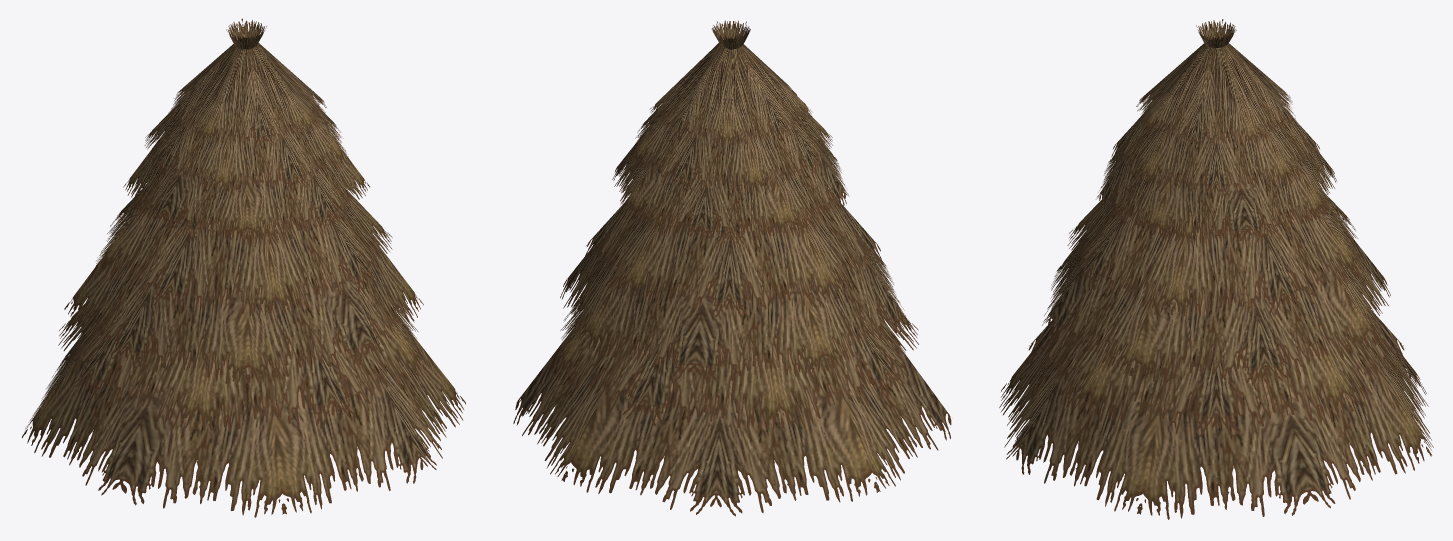
Rendered from ZZL_Item_11.FBX.
The picture shows the model from 3 angles, left to right: view 1: azimuth 30°, elevation 25°; view 2: azimuth 150°, elevation 25°; view 3: azimuth 270°, elevation 25°; orthographic projection.
Parts seen in each view (by area): view 1: ZZL_Item_11; view 2: ZZL_Item_11; view 3: ZZL_Item_11.
Boxes of the visible parts, box(x1,y1,x2,y2) form: ZZL_Item_11: box(22, 18, 465, 517); ZZL_Item_11: box(513, 20, 951, 516); ZZL_Item_11: box(999, 19, 1433, 519).
Size of the model in its own units: 324 by 330 by 324.
